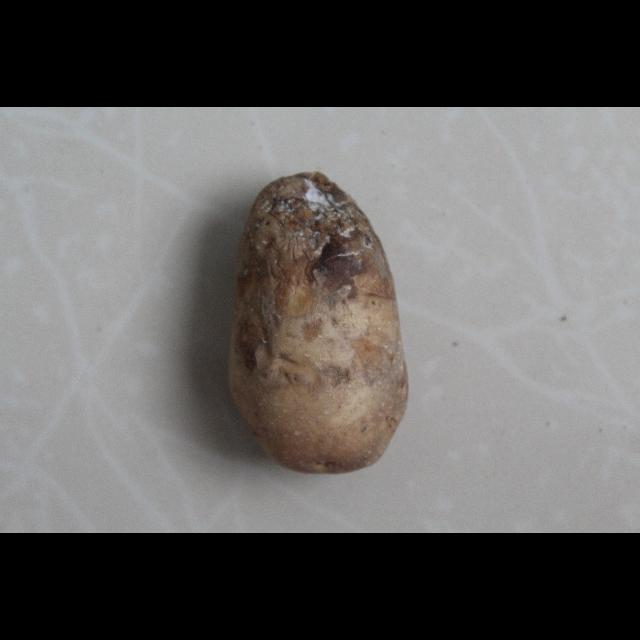Diseased-fungal potato: (226, 162, 414, 478)
